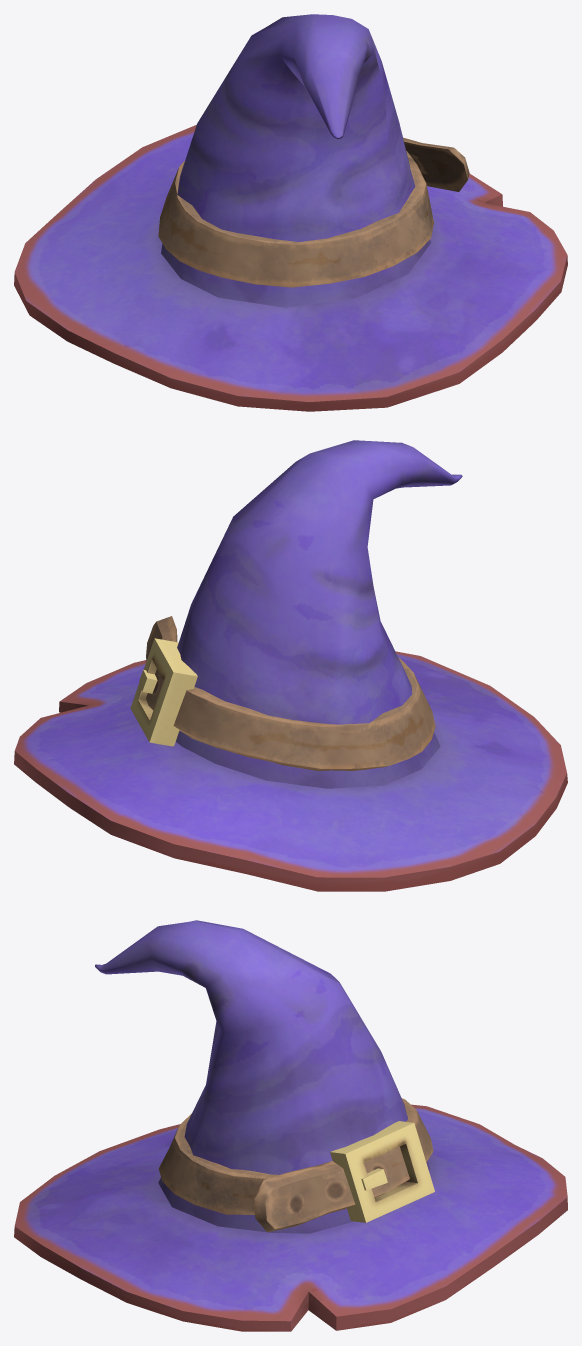
File: IG_Helmat_WitchHat.fbx
3 views of the same model, one above another, from view 1: azimuth 30°, elevation 25°; view 2: azimuth 150°, elevation 25°; view 3: azimuth 270°, elevation 25° (orthographic). The views are drawn at different scales.
Visible parts, largest first — view 1: Pfb_WichHat; view 2: Pfb_WichHat; view 3: Pfb_WichHat.
Boxes of the visible parts, <box> form: Pfb_WichHat: <box>14,14,567,411</box>; Pfb_WichHat: <box>14,440,567,891</box>; Pfb_WichHat: <box>14,920,567,1331</box>.
Bounding box in the file's own units: 1.12 × 0.7066 × 1.17.
